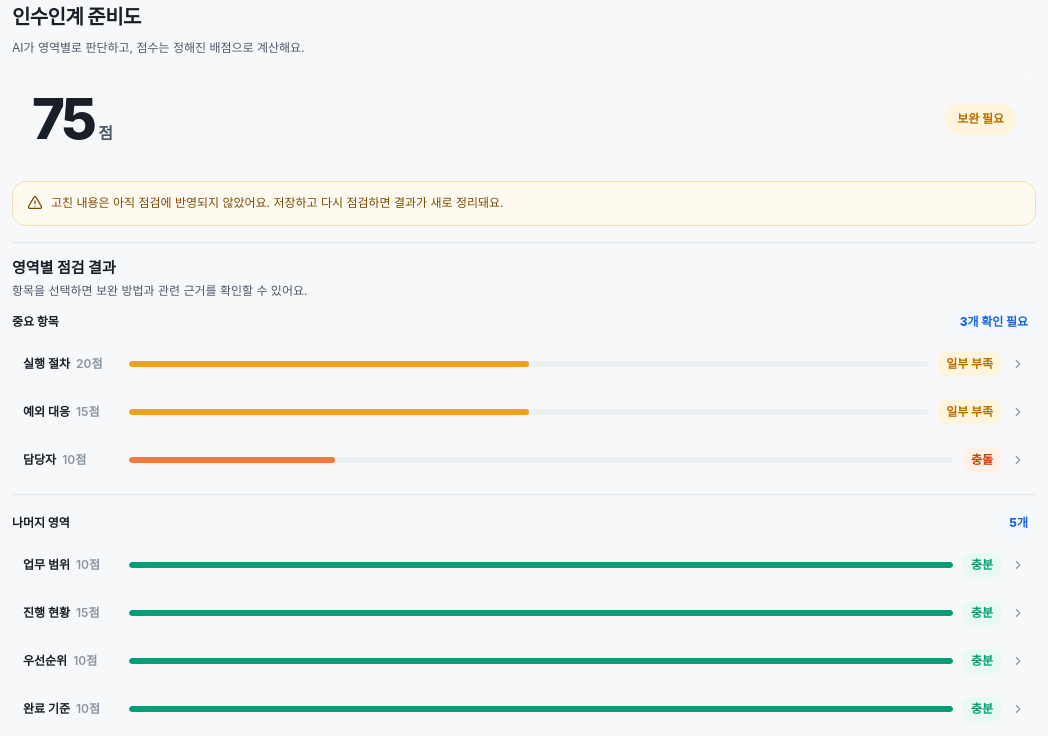
ReadinessPanel › renders read-only without actions that change or open anything
The image size is (1048, 736).
Expected: the button "가을_할인전_준비_메모.docx" is not shown
What coordinates should you click on to do the following:
click the button "실행 절차 20점 일부 부족"
I would click on:
 (524, 364)
Its box is 12,342 -> 1036,386.
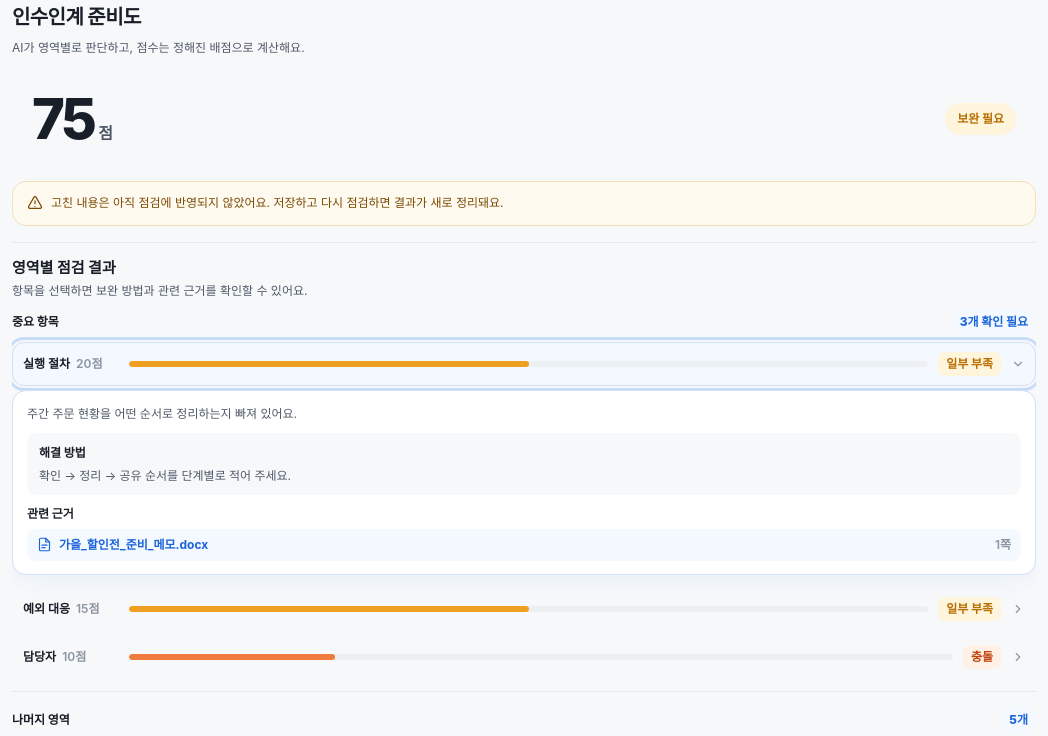
Expected: the element named "실행 절차 자세히" shows "가을_할인전_준비_메모.docx", 59,537 -> 208,552
